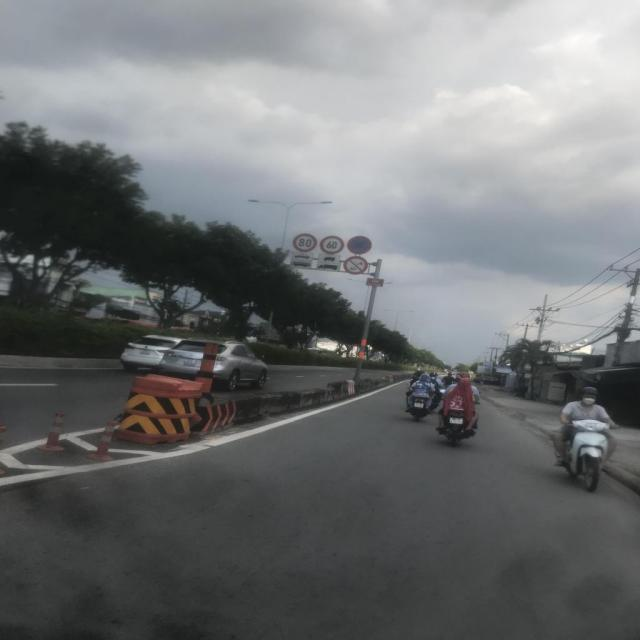cam_dung_xe_va_do_xe: (347, 236, 372, 254)
cam_xe_2_banh_va_xe_3_banh_co_dong_co: (343, 256, 368, 275)
khac: (316, 262, 341, 272), (291, 251, 313, 262), (290, 259, 312, 270), (318, 254, 342, 264)
toc_do_toi_da_60: (320, 236, 346, 254)
toc_do_toi_da_80: (292, 233, 318, 252)
